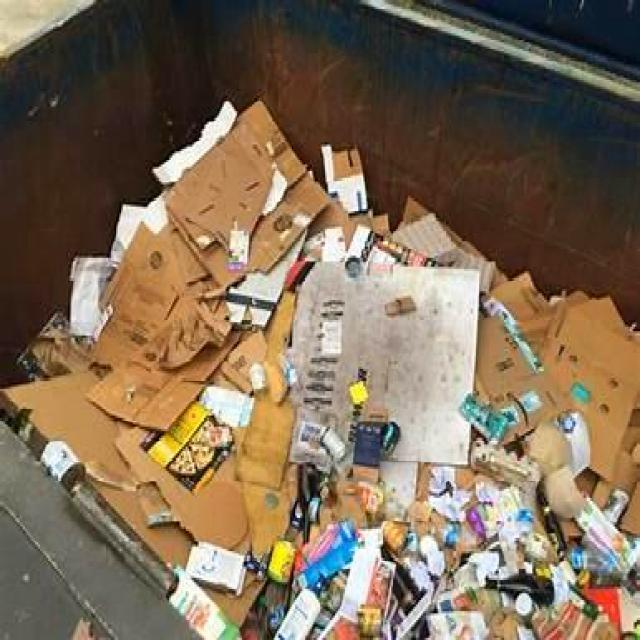Garbage: (0, 95, 640, 640)
Glass_bottle: (486, 571, 554, 605), (321, 427, 346, 461)
